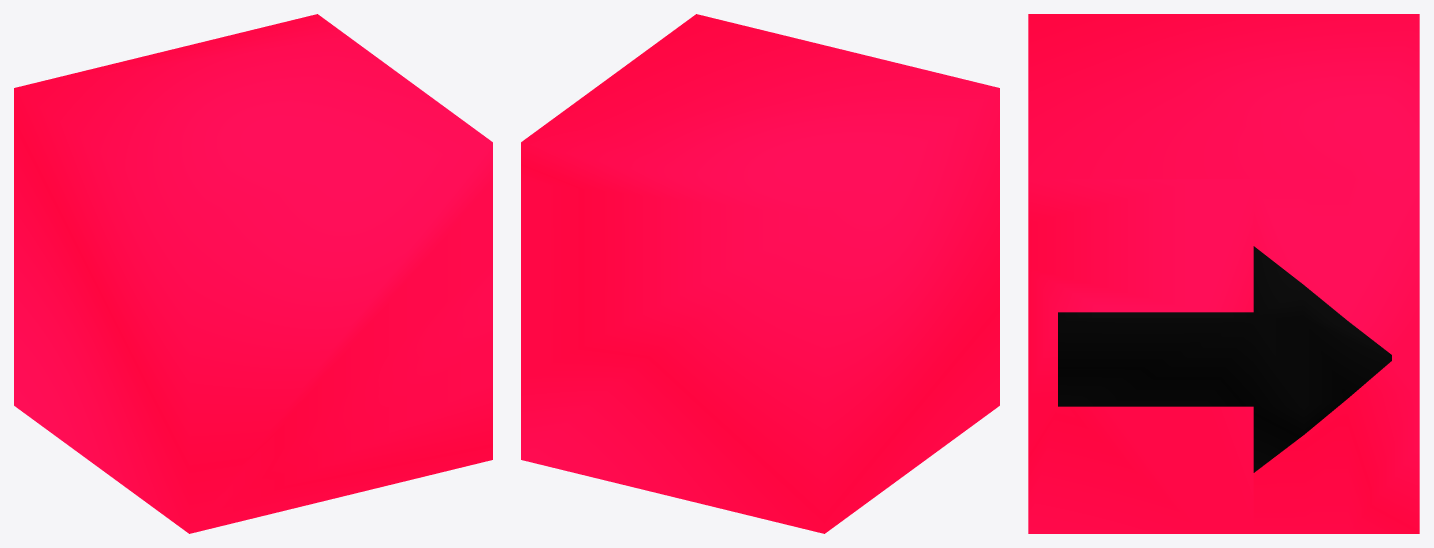
File: Block_R.fbx
The picture shows the model from 3 angles, left to right: view 1: azimuth 30°, elevation 25°; view 2: azimuth 150°, elevation 25°; view 3: azimuth 270°, elevation 25°; orthographic projection. The views are drawn at different scales.
Parts seen in each view (by area): view 1: Cube; view 2: Cube; view 3: Cube.
Part boxes in pixels (x1,y1,x2,y2): Cube: (14,14,492,533); Cube: (521,14,999,533); Cube: (1028,14,1419,533).
Bounding box in the file's own units: 207 × 200 × 200.
